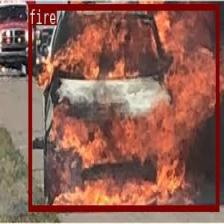fire: (28, 3, 219, 209)
